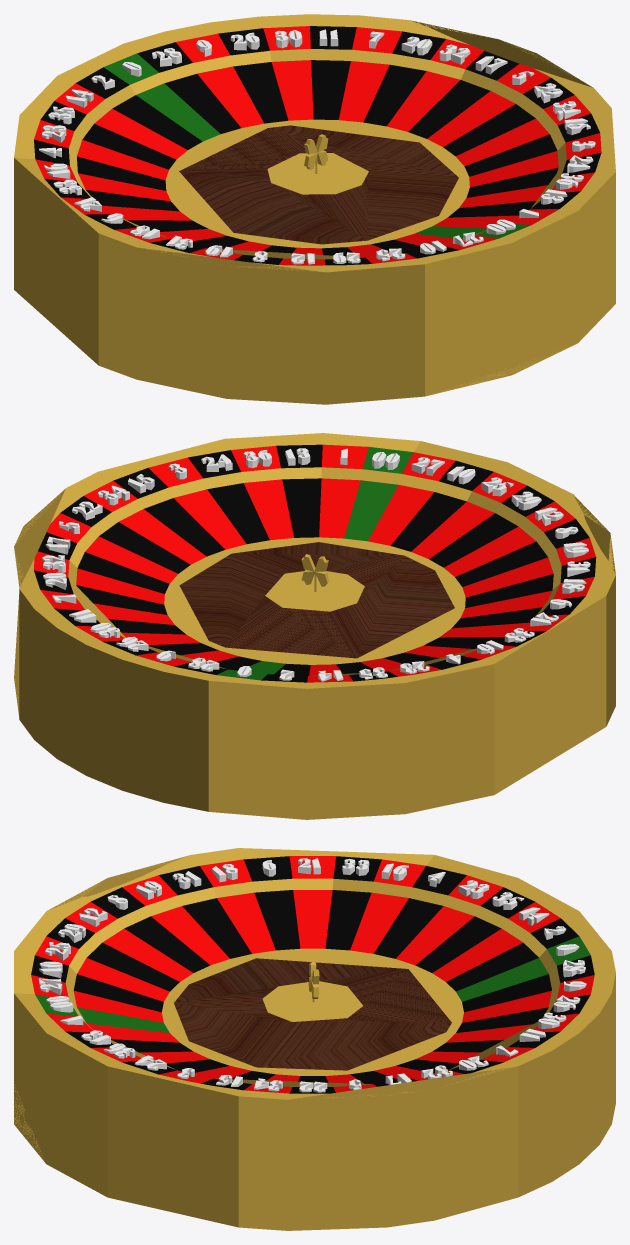
The model's file is Roulette Wheel.glb.
The picture shows the model from 3 angles, top to bottom: view 1: azimuth 30°, elevation 25°; view 2: azimuth 150°, elevation 25°; view 3: azimuth 270°, elevation 25°; orthographic projection.
Visible parts, largest first — view 1: Wheel-Body; view 2: Wheel-Body; view 3: Wheel-Body.
Part boxes in pixels (x1,y1,x2,y2): Wheel-Body: (14,14,615,404); Wheel-Body: (14,433,615,819); Wheel-Body: (14,848,615,1230).
Bounding box in the file's own units: 0.749 × 0.1897 × 0.7568.
Materials: 6 (1 with a texture image).
